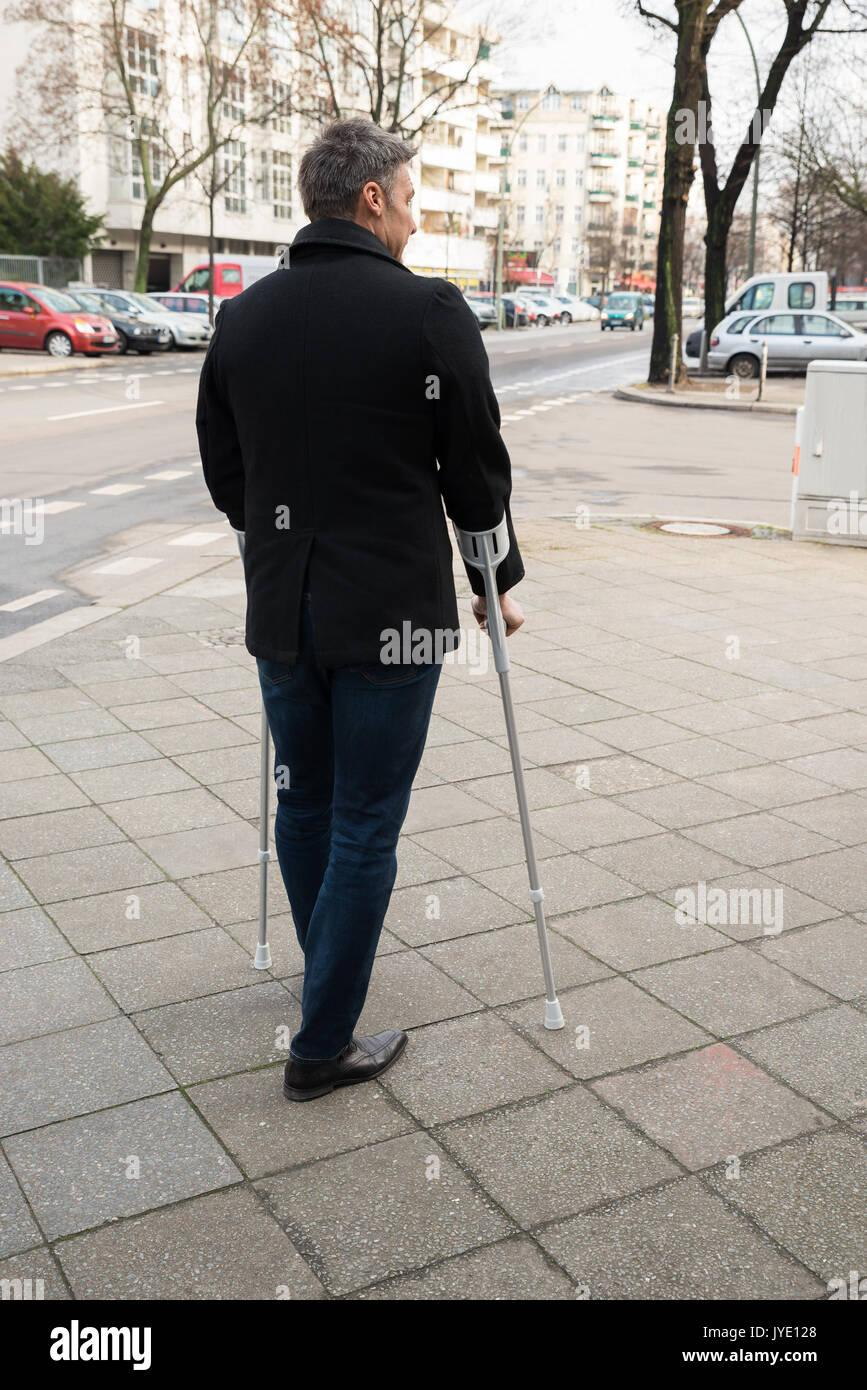crutches: (197, 119, 566, 1100)
